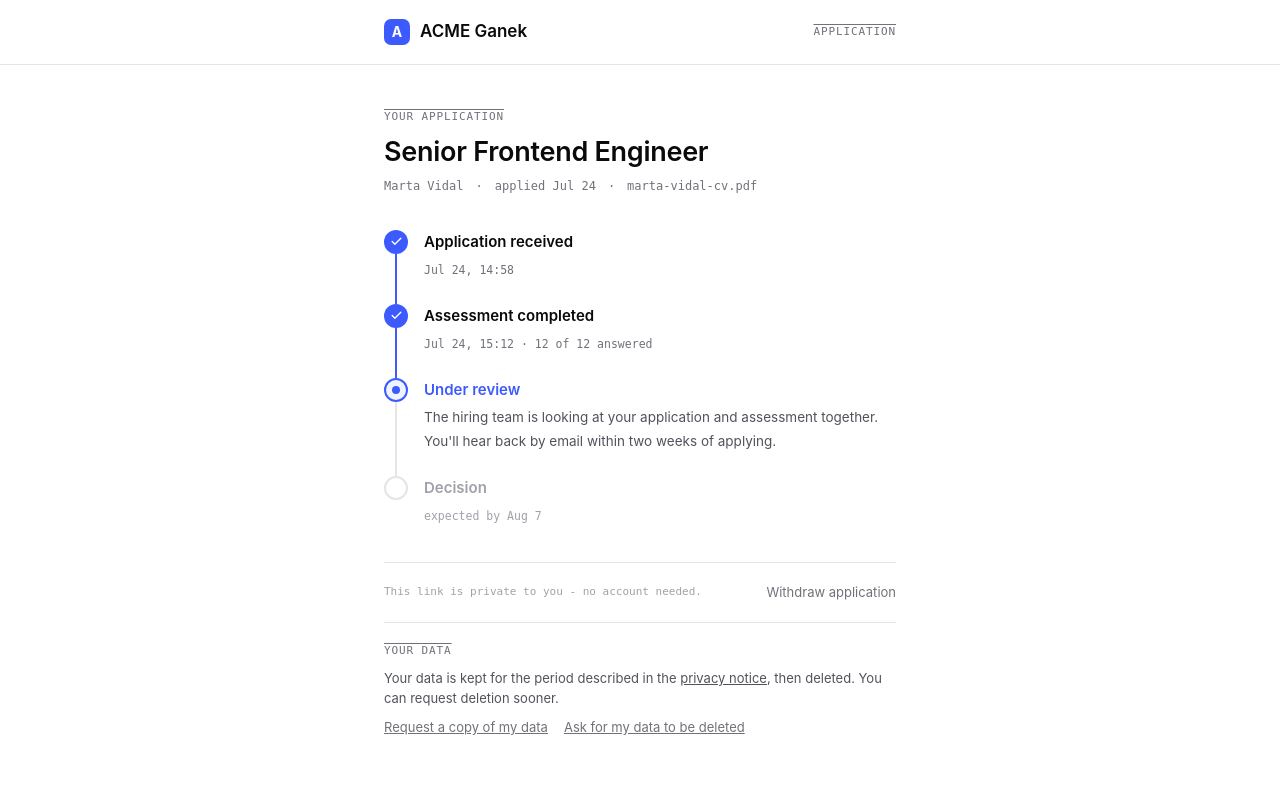
Scenario: StatusPage › withdraws after an explicit confirm and shows the withdrawn state
Expected: the heading "Senior Frontend Engineer" is shown, [384,134,708,168]
Click the button "Withdraw application". click: (831,593)
box: [766,583,896,602]
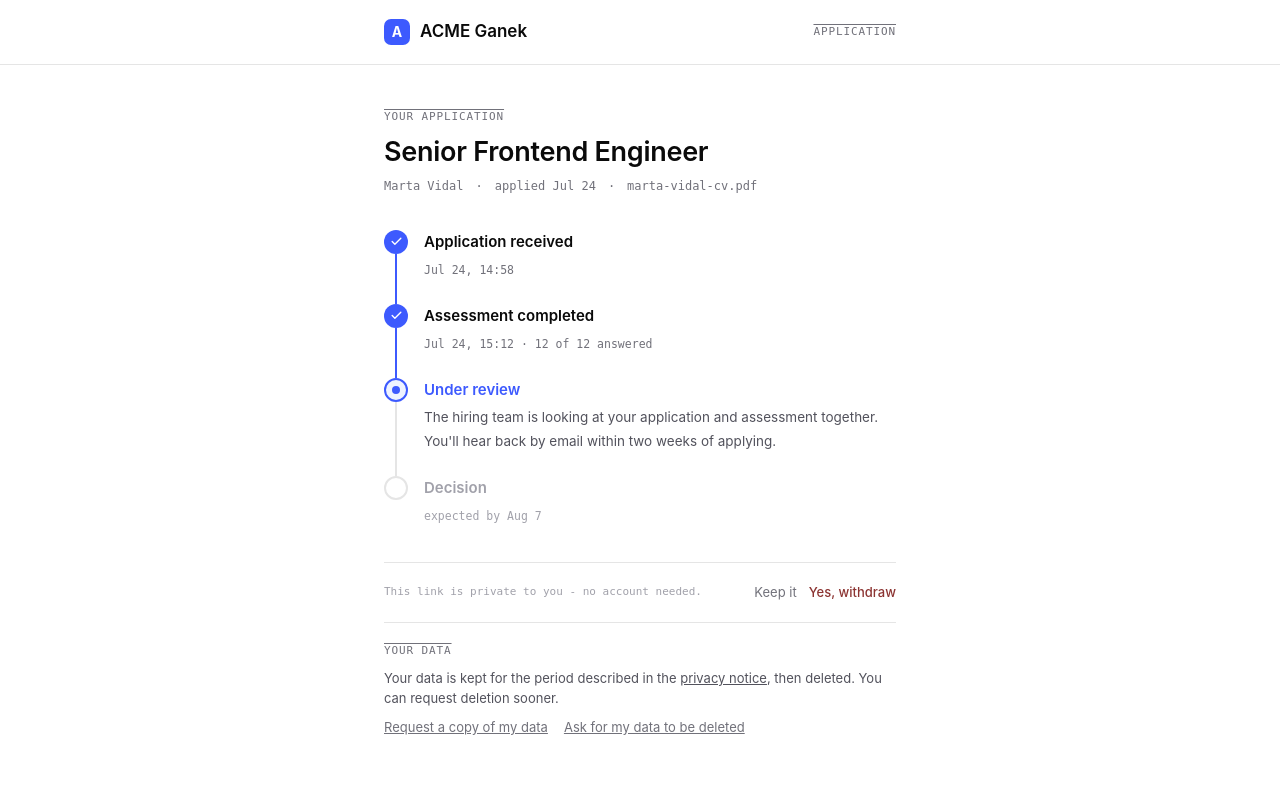
Click the button "Yes, withdraw". click: (852,593)
box: [809,583,896,602]
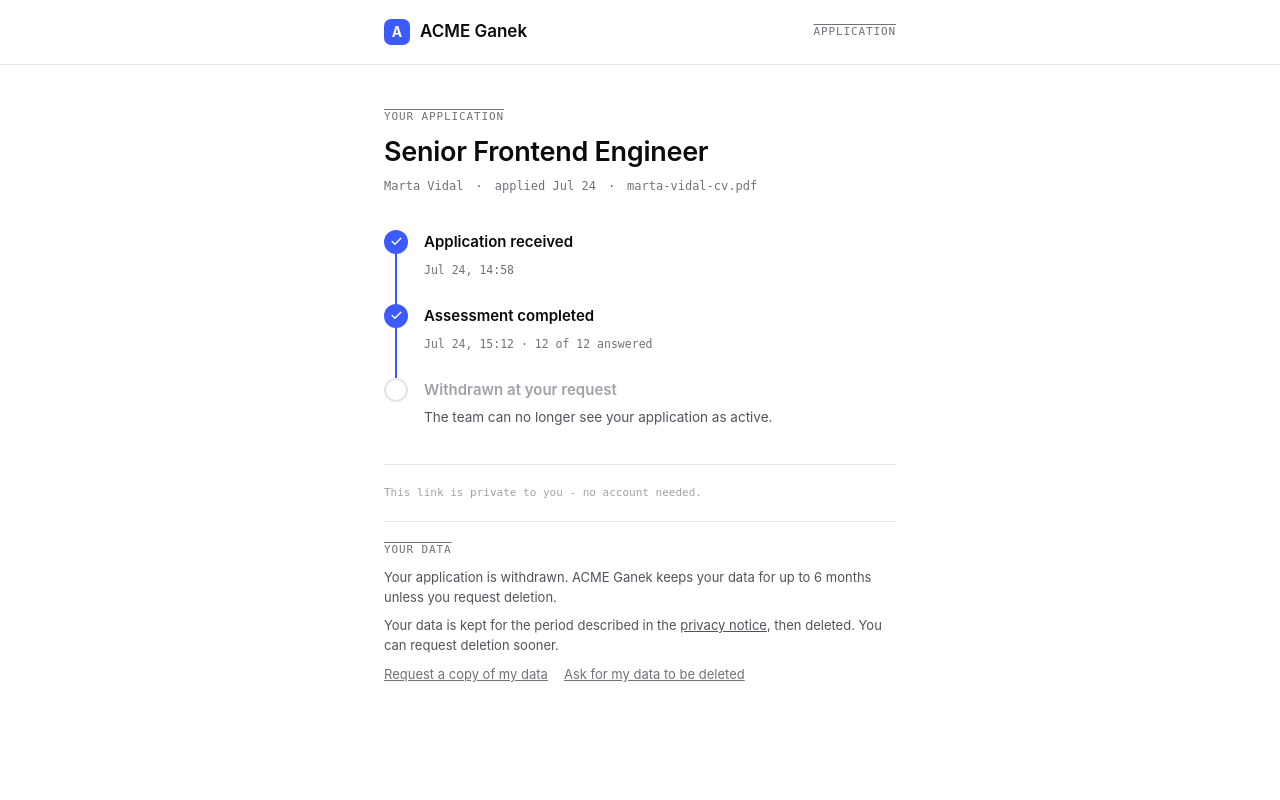
Expected: the button "Withdraw application" is not shown
Expected: the text "Withdrawn at your request" is shown, [424,380,617,399]
